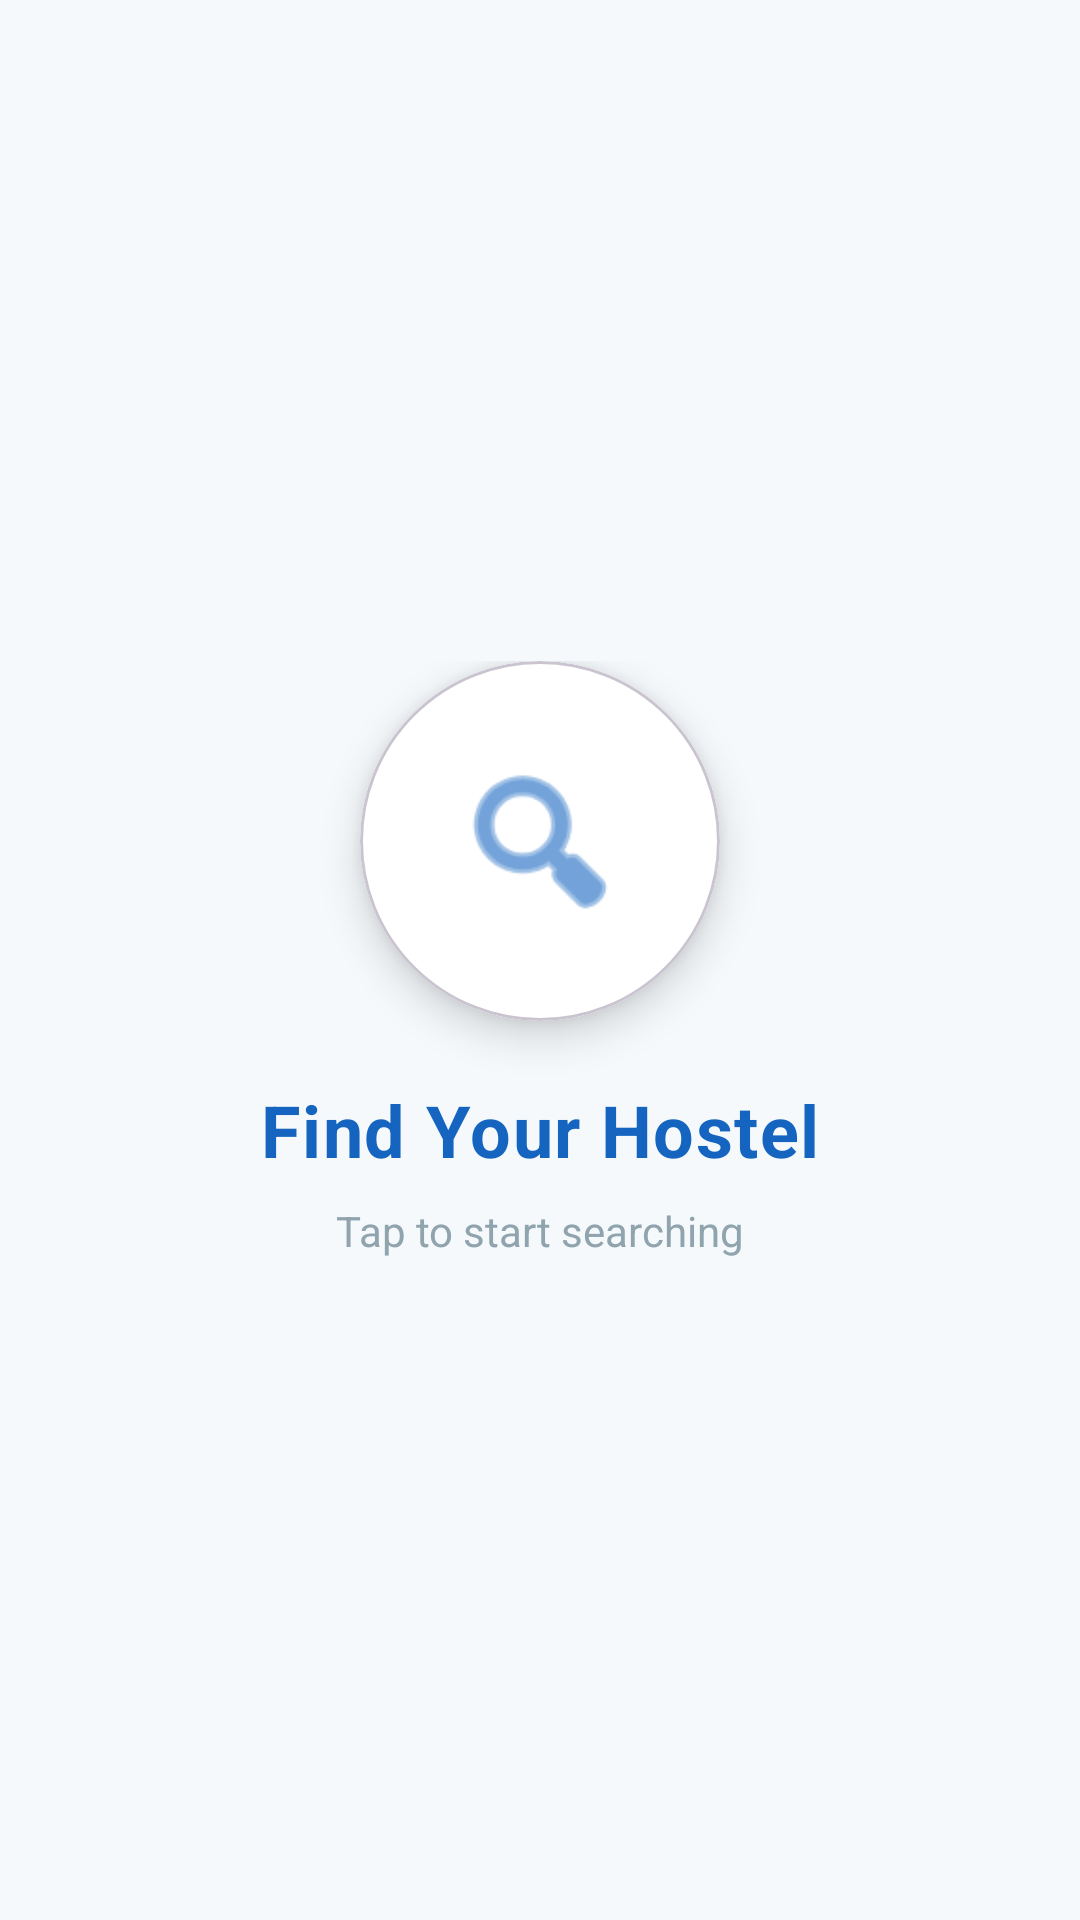

Icon bounding boxes for this 1080*1920 phone screenshot, format (x1, y1, x2, y2):
Search Icon: (473, 775, 607, 909)
